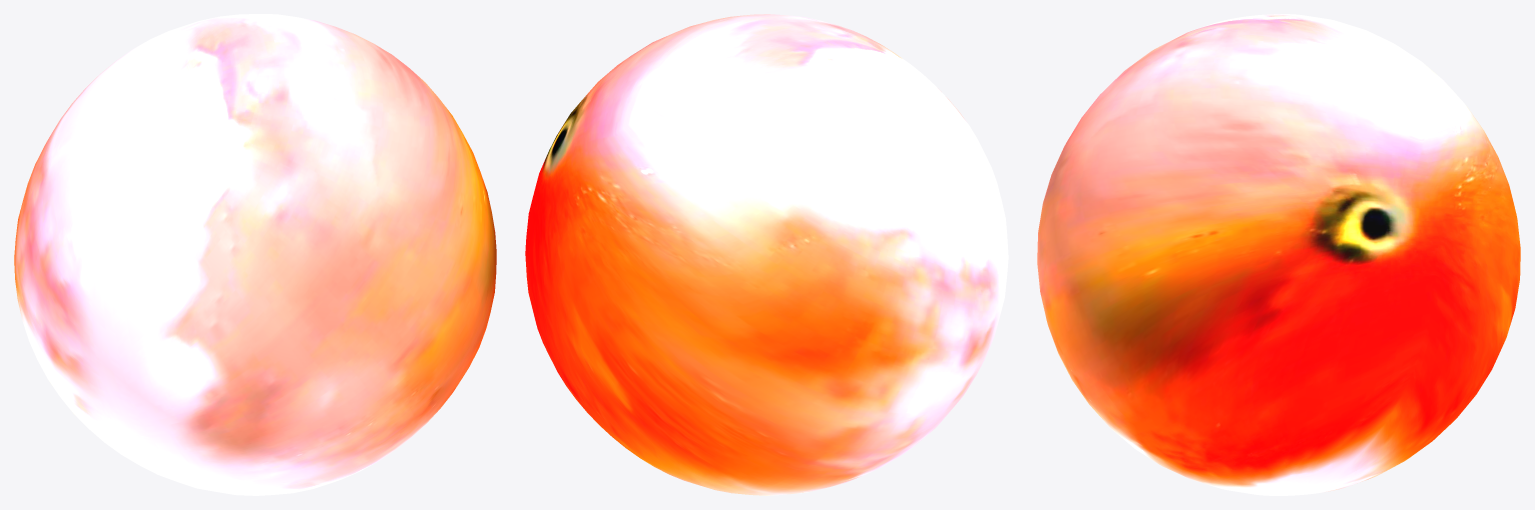
The model's file is Egg-Only.gltf.
The picture shows the model from 3 angles, left to right: view 1: azimuth 30°, elevation 25°; view 2: azimuth 150°, elevation 25°; view 3: azimuth 270°, elevation 25°; orthographic projection.
Visible parts, largest first — view 1: Sphere; view 2: Sphere; view 3: Sphere.
Boxes of the visible parts, box(x1,y1,x2,y2) form: Sphere: box(14, 14, 496, 495); Sphere: box(525, 14, 1008, 495); Sphere: box(1037, 14, 1520, 495).
Size of the model in its own units: 136 by 136 by 136.
1 material, 1 textured.
